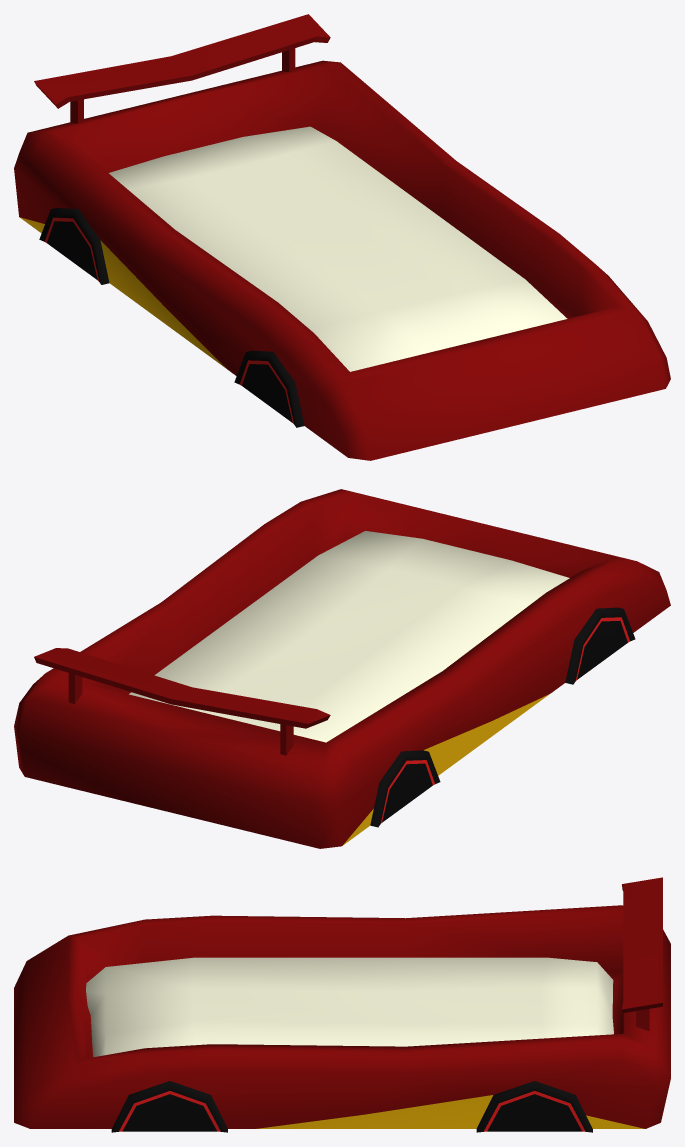
Rendered from carbed.fbx.
3 views of the same model, one above another, from view 1: azimuth 30°, elevation 25°; view 2: azimuth 150°, elevation 25°; view 3: azimuth 270°, elevation 25° (orthographic). The views are drawn at different scales.
Visible parts, largest first — view 1: Line006; view 2: Line006; view 3: Line006.
Boxes of the visible parts, bbox=[...] form: Line006: bbox=[14, 14, 670, 460]; Line006: bbox=[14, 489, 670, 848]; Line006: bbox=[14, 877, 670, 1132].
Size of the model in its own units: 330 by 115 by 592.
